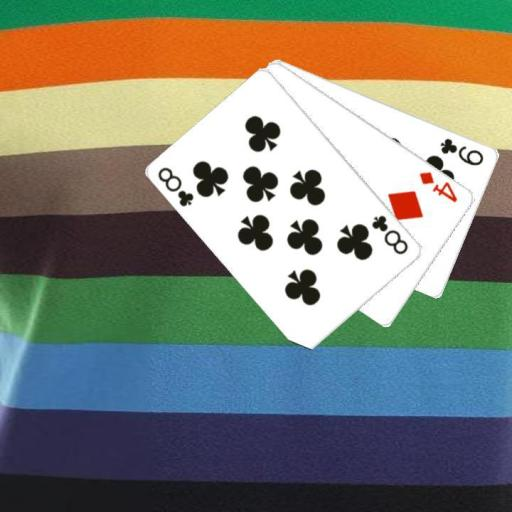4D: (416, 168, 459, 204)
8C: (369, 211, 411, 257), (155, 164, 196, 209)
9C: (437, 135, 486, 167)
